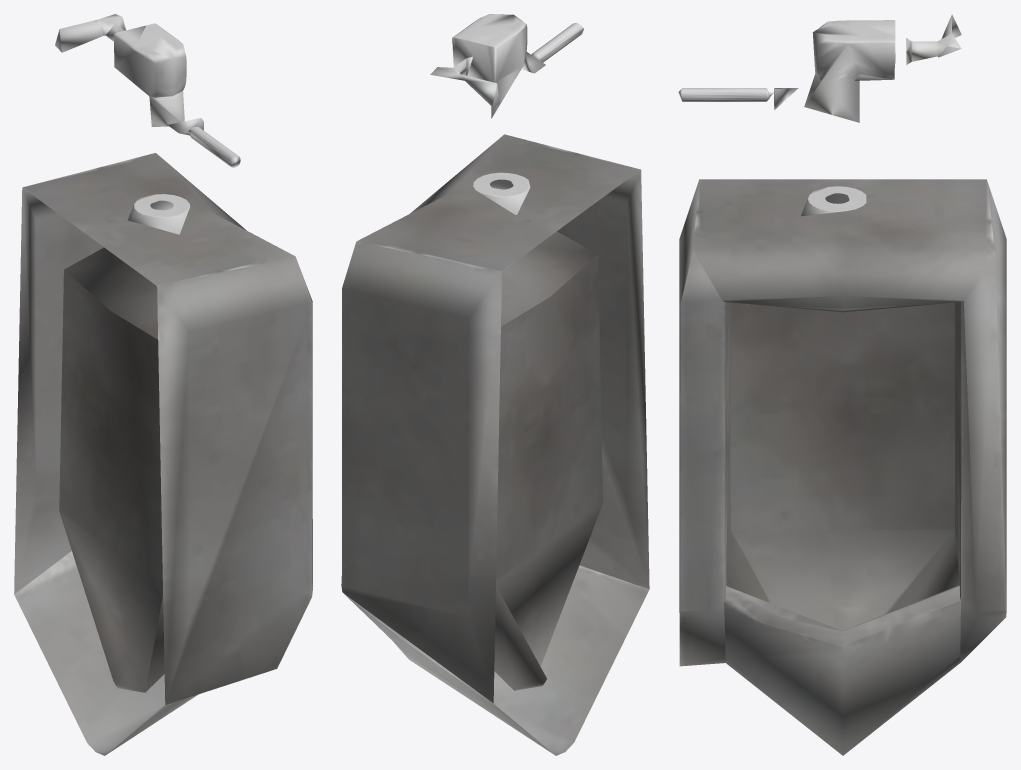
File: urinal.lod0.glb
3 views of the same model, side by side, from view 1: azimuth 30°, elevation 25°; view 2: azimuth 150°, elevation 25°; view 3: azimuth 270°, elevation 25° (orthographic). The views are drawn at different scales.
Parts seen in each view (by area): view 1: Object_2; view 2: Object_2; view 3: Object_2.
Part boxes in pixels (x1,y1,x2,y2): Object_2: (14, 14, 312, 755); Object_2: (341, 14, 649, 755); Object_2: (678, 14, 1006, 755).
Size of the model in its own units: 0.2216 by 0.7347 by 0.2969.
1 material, 1 textured.
